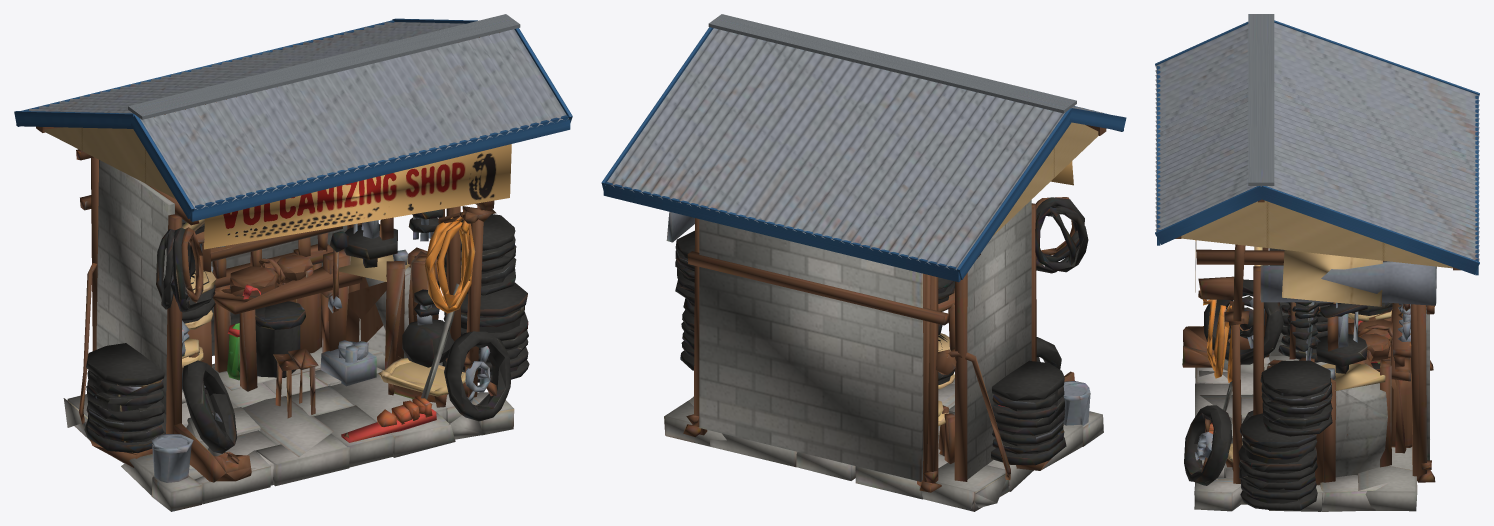
The model's file is vulcanizing.glb.
3 renders of one model, left to right at view 1: azimuth 30°, elevation 25°; view 2: azimuth 150°, elevation 25°; view 3: azimuth 270°, elevation 25°, orthographic. The views are drawn at different scales.
Parts seen in each view (by area): view 1: Mesh0; view 2: Mesh0; view 3: Mesh0.
Boxes of the visible parts, <box> form: Mesh0: <box>14,14,572,511</box>; Mesh0: <box>601,14,1126,511</box>; Mesh0: <box>1155,14,1479,511</box>.
Bounding box in the file's own units: 1 × 0.8825 × 0.7562.
Materials: 1 (1 with a texture image).
